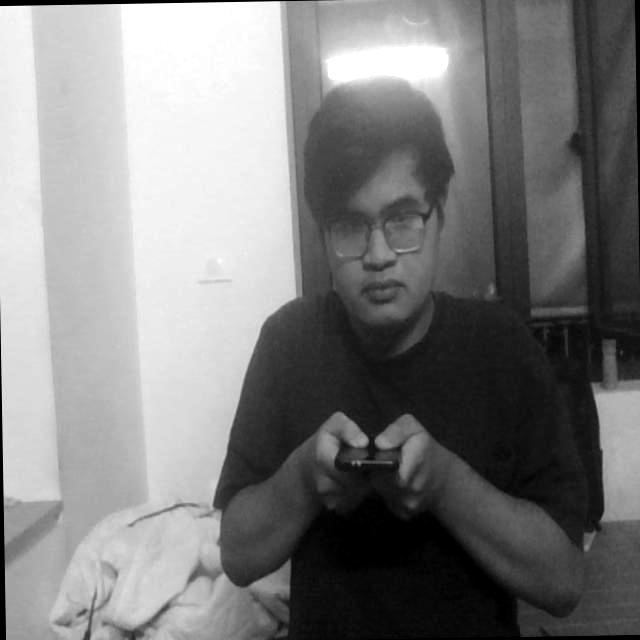phone: (332, 420, 411, 504)
